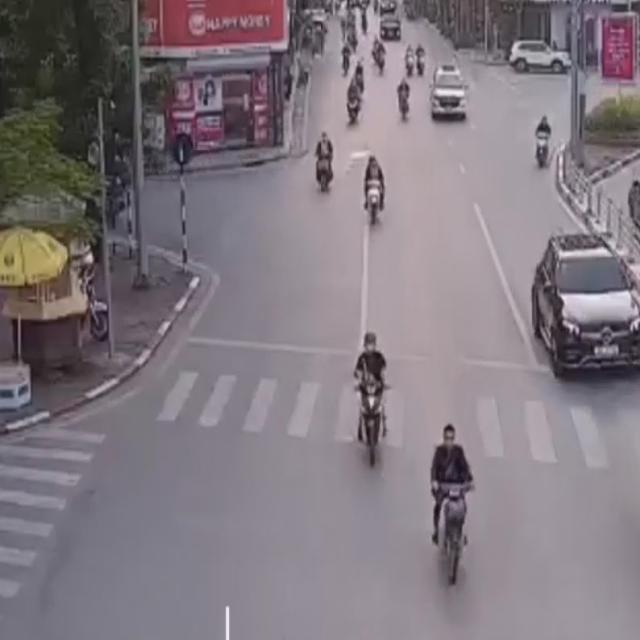car: (524, 224, 640, 386), (430, 59, 470, 121)
motorbike: (422, 419, 477, 584), (353, 330, 392, 469), (362, 145, 386, 220), (314, 124, 338, 190), (533, 108, 556, 168), (395, 70, 414, 122), (347, 76, 365, 122)
